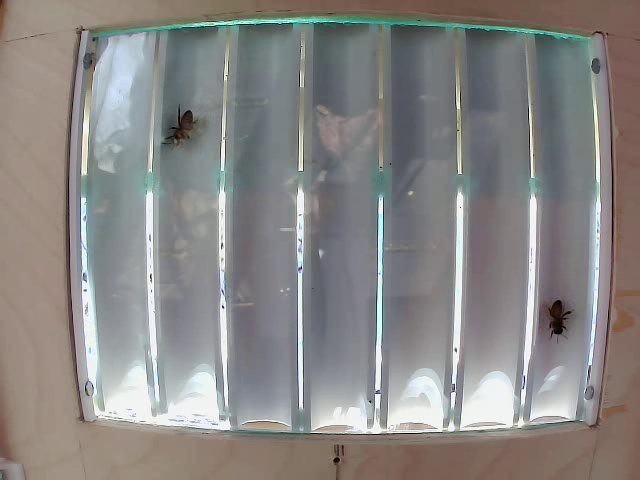bee: (174, 97, 204, 157), (540, 289, 575, 340)
